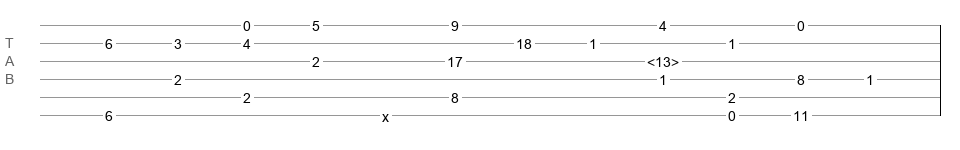0: (243, 18, 251, 28), (728, 108, 736, 118), (797, 18, 805, 28)
1: (589, 36, 597, 46), (659, 72, 667, 82), (728, 36, 736, 46), (866, 72, 874, 82)
11: (793, 108, 809, 118)
17: (447, 54, 463, 64)
18: (516, 36, 532, 46)
2: (174, 72, 182, 82), (243, 90, 251, 100), (312, 54, 320, 64), (728, 90, 736, 100)
3: (174, 36, 182, 46)
4: (243, 36, 251, 46), (659, 18, 667, 28)
5: (312, 18, 320, 28)
6: (105, 36, 113, 46), (105, 108, 113, 118)
8: (451, 90, 459, 100), (797, 72, 805, 82)
9: (451, 18, 459, 28)
harmonic: (647, 54, 679, 64)
x: (382, 109, 389, 117)
